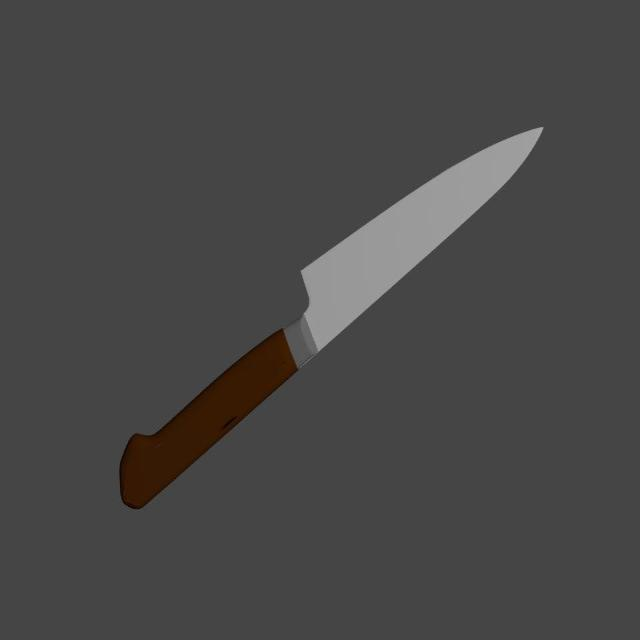knife: (120, 328, 300, 510)
